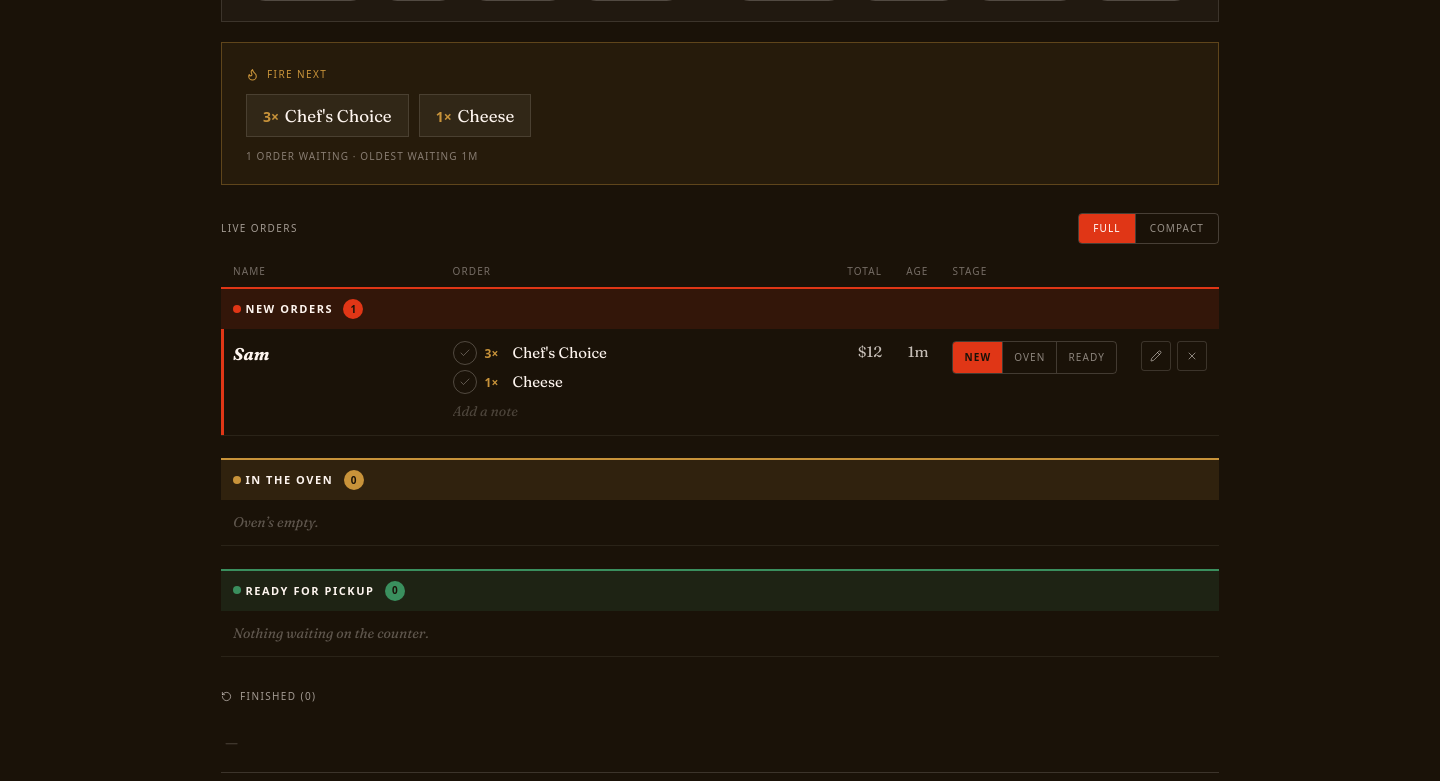
Test case: AdminPage — handing over part of an order › ticks the slice off at once and tells the server which line and how many
(page scrolled)
Expected: the element named "stage for sam" is shown, [952, 341, 1117, 374]
What coordinates should you click on to do the following:
click the button named "Hand over one Cheese to Sam"
I would click on:
 (464, 382)
Its box is [452, 370, 476, 394].
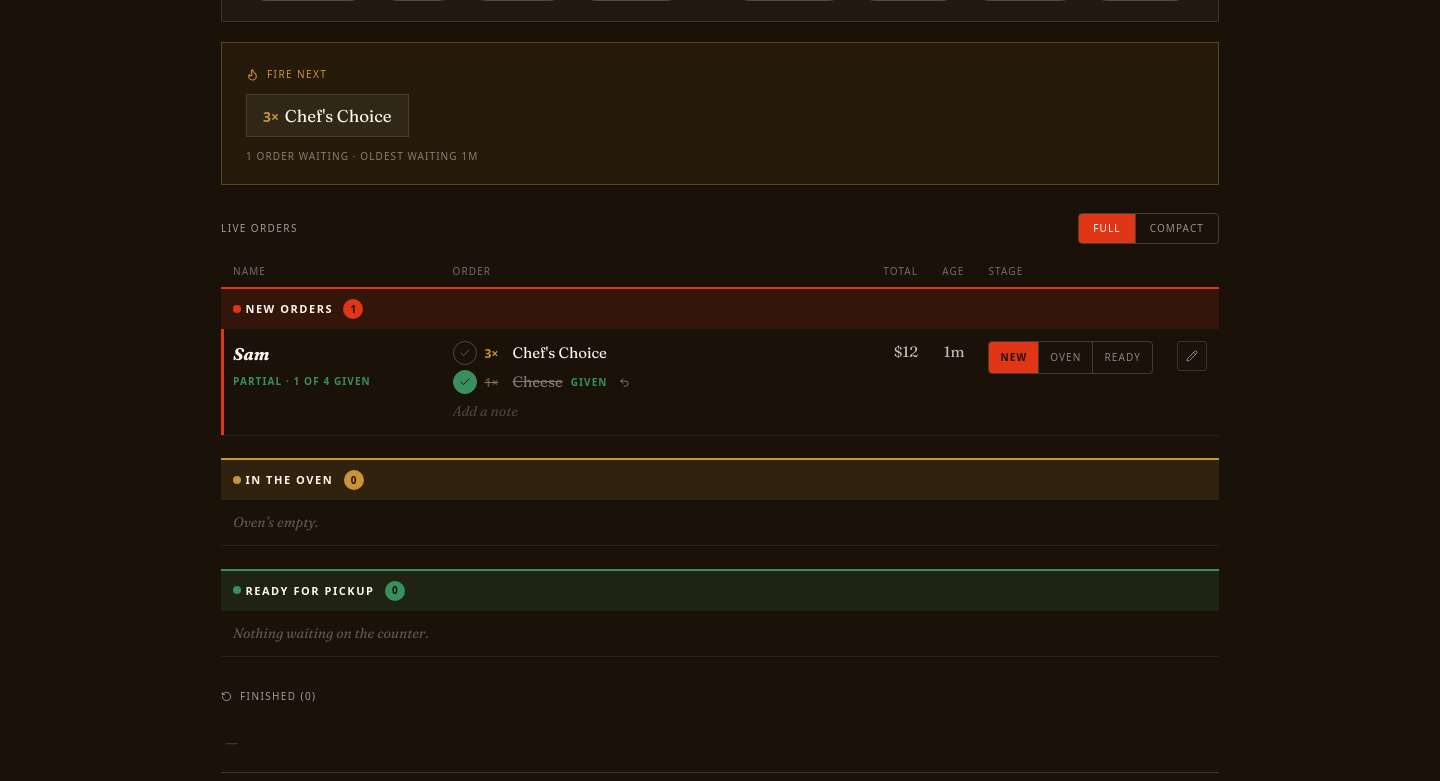
Expected: the text "Partial · 1 of 4 given" is shown, [233, 374, 371, 388]
